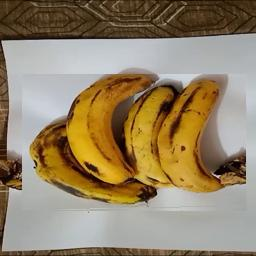Banana Semifresh: (23, 75, 248, 212)
